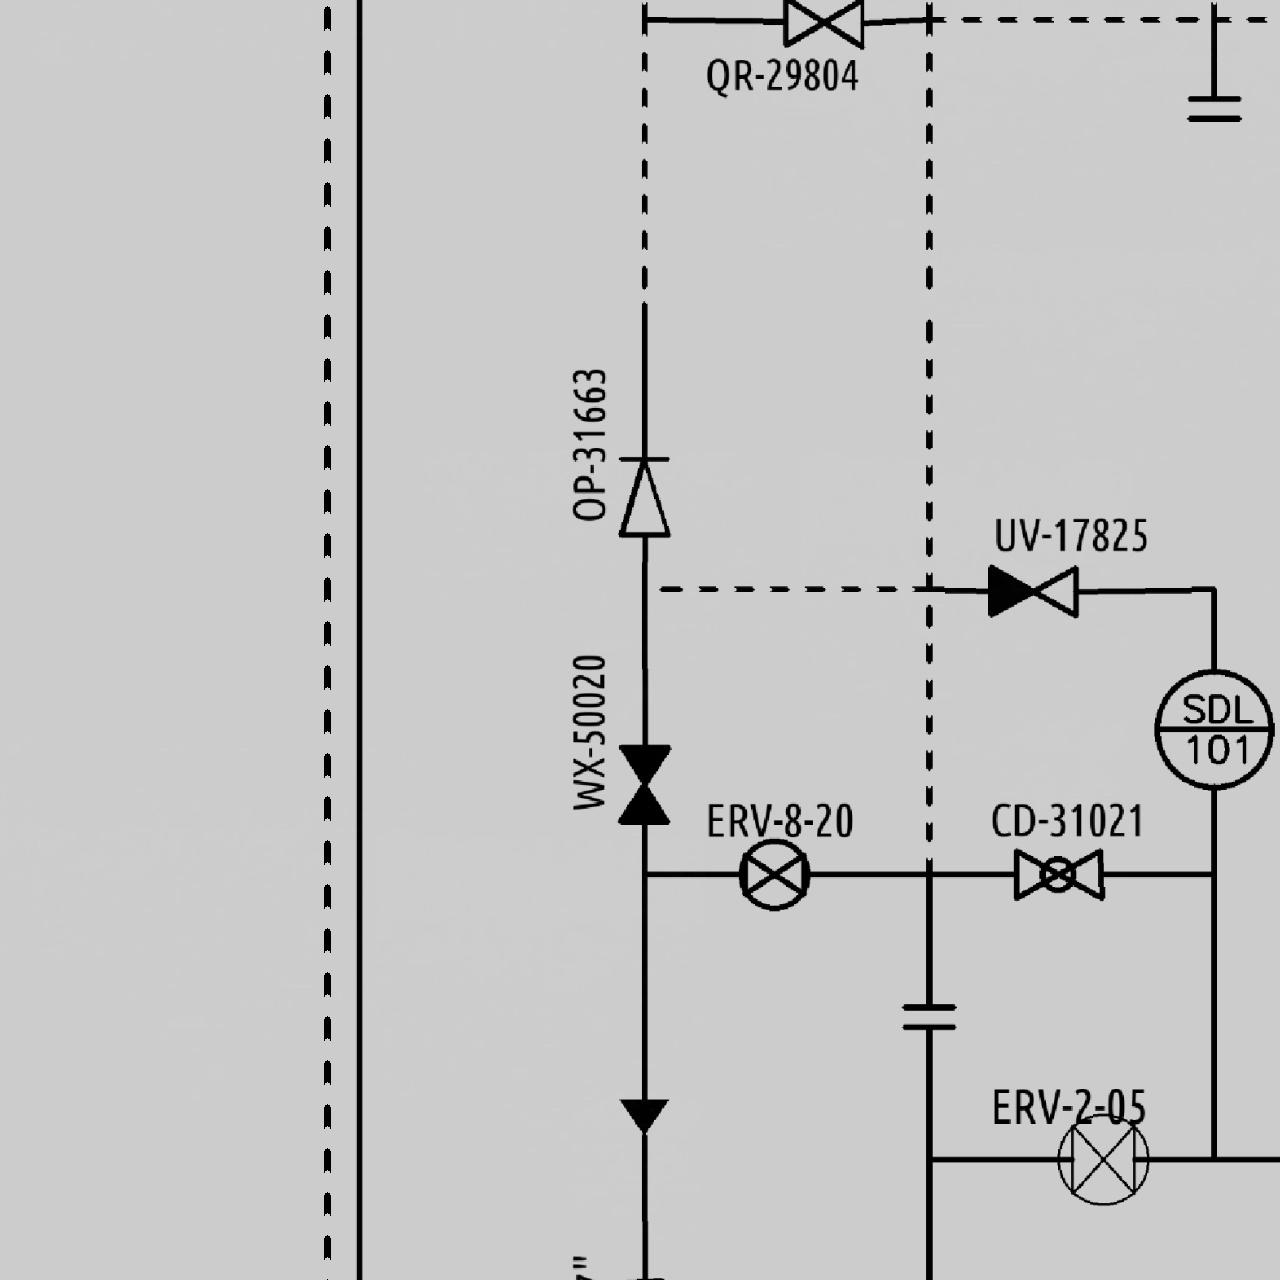Half closed valve: (983, 560, 1081, 621)
